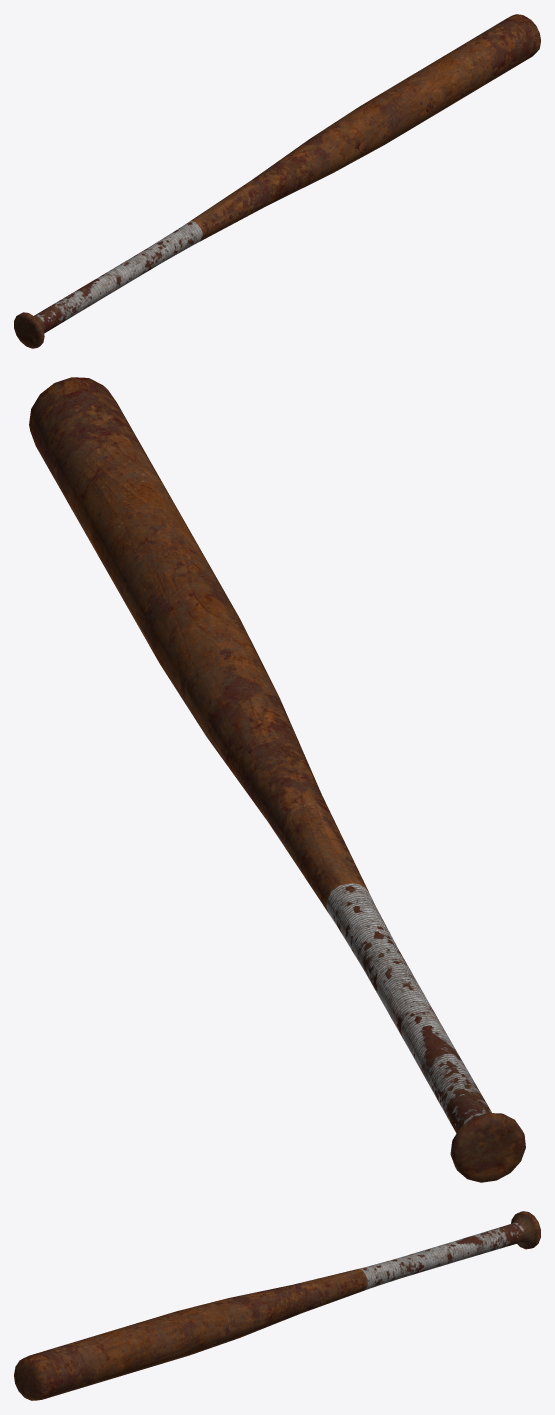
The model's file is Anim_idle_bate_objetos.0039.obj.
The picture shows the model from 3 angles, top to bottom: view 1: azimuth 90°, elevation 25°; view 2: azimuth 150°, elevation 25°; view 3: azimuth 270°, elevation 25°; orthographic projection. The views are drawn at different scales.
Visible parts, largest first — view 1: Bate1; view 2: Bate1; view 3: Bate1.
Part boxes in pixels (box(x1,y1,x2,y2)): Bate1: box(14, 14, 540, 348); Bate1: box(29, 377, 525, 1182); Bate1: box(14, 1211, 540, 1400).
Bounding box in the file's own units: 4.04 × 0.8881 × 3.82.
